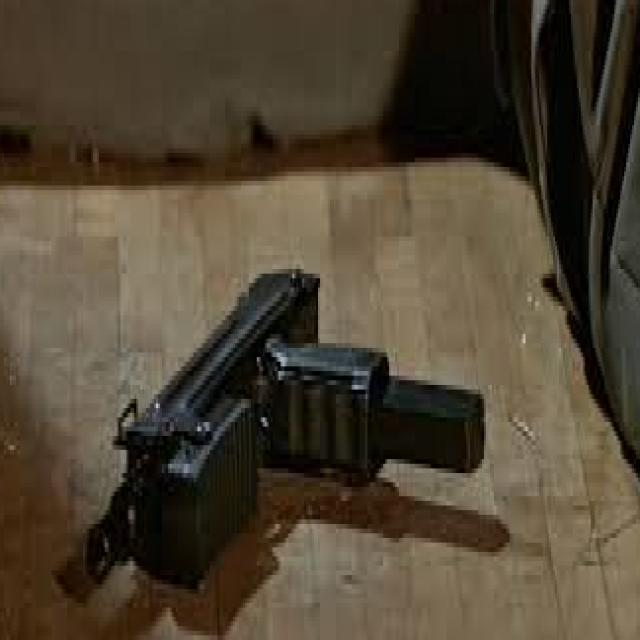gun: (79, 250, 506, 600)
